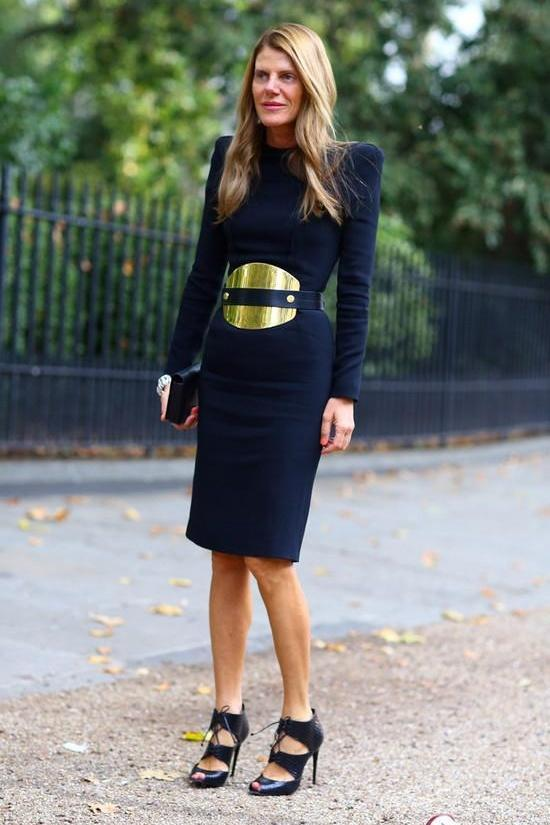dress: (160, 136, 382, 564)
